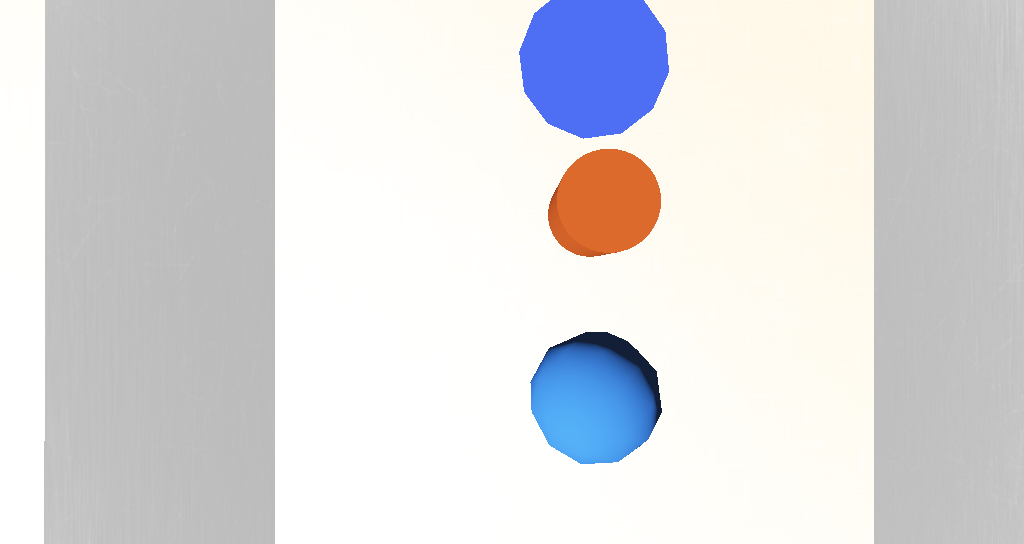cone: (495, 231, 542, 265)
cylinder: (472, 169, 539, 231)
sphere: (478, 286, 546, 334)
